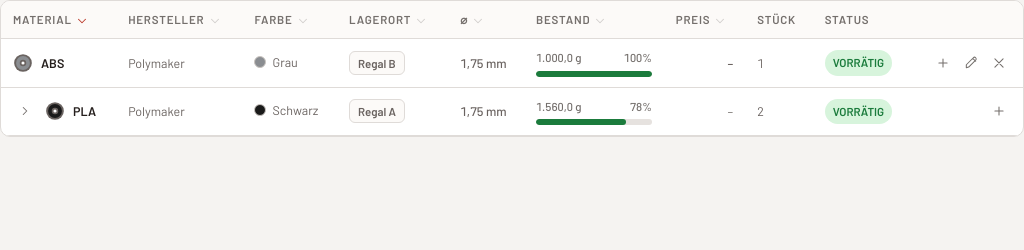
Scenario: FilamentTable grouped rows › expands the group to its spools and collapses it again
Click the button named "PLA Schwarz: Spulen anzeigen".
click(25, 111)  # box [13,99,37,123]
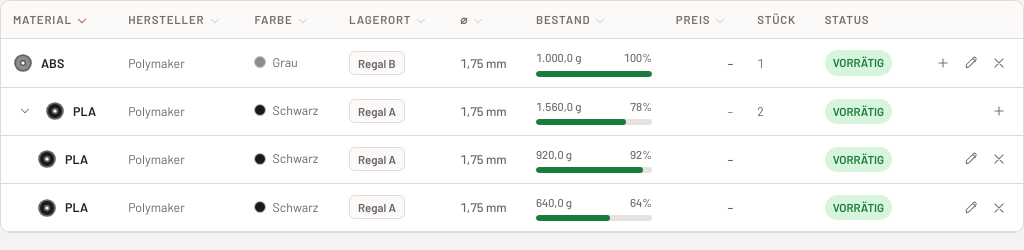
Result: the button named "PLA Schwarz: Spulen anzeigen" is expanded
Result: the row with test id "spool-row-a1" shows "920,0 g" at [536,147,572,161]
Result: the row with test id "spool-row-a2" shows "640,0 g" at [536,195,572,209]
Click the button named "PLA Schwarz: Spulen anzeigen".
click(25, 111)  # box [13,99,37,123]
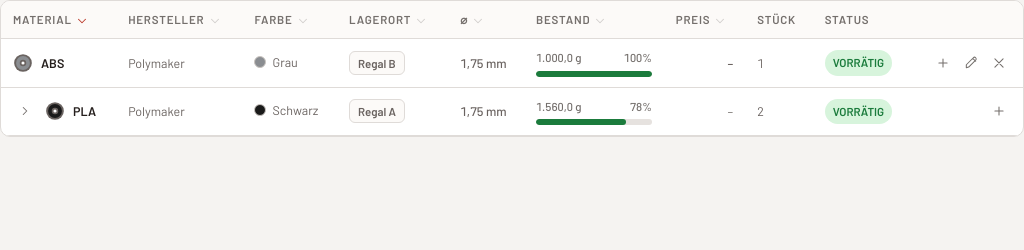
Result: the row with test id "spool-row-a1" is gone
